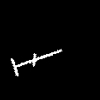double_crochet: (11, 50, 61, 75)
